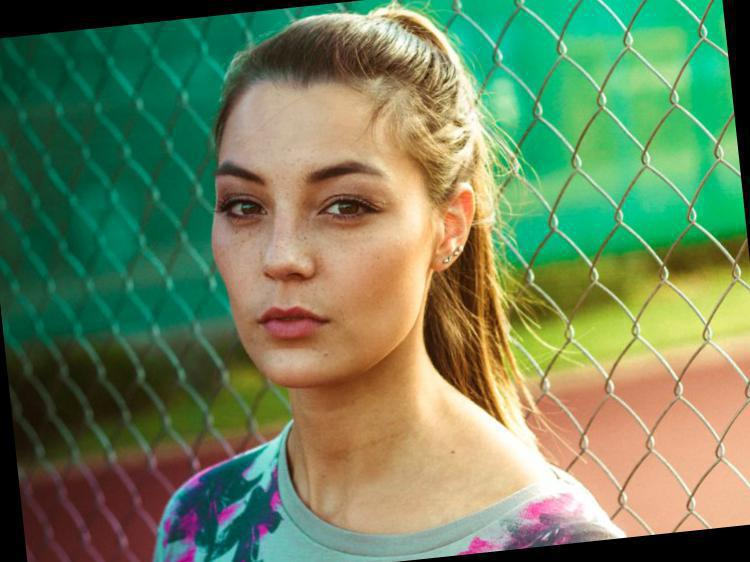Sober: (212, 103, 429, 350)
